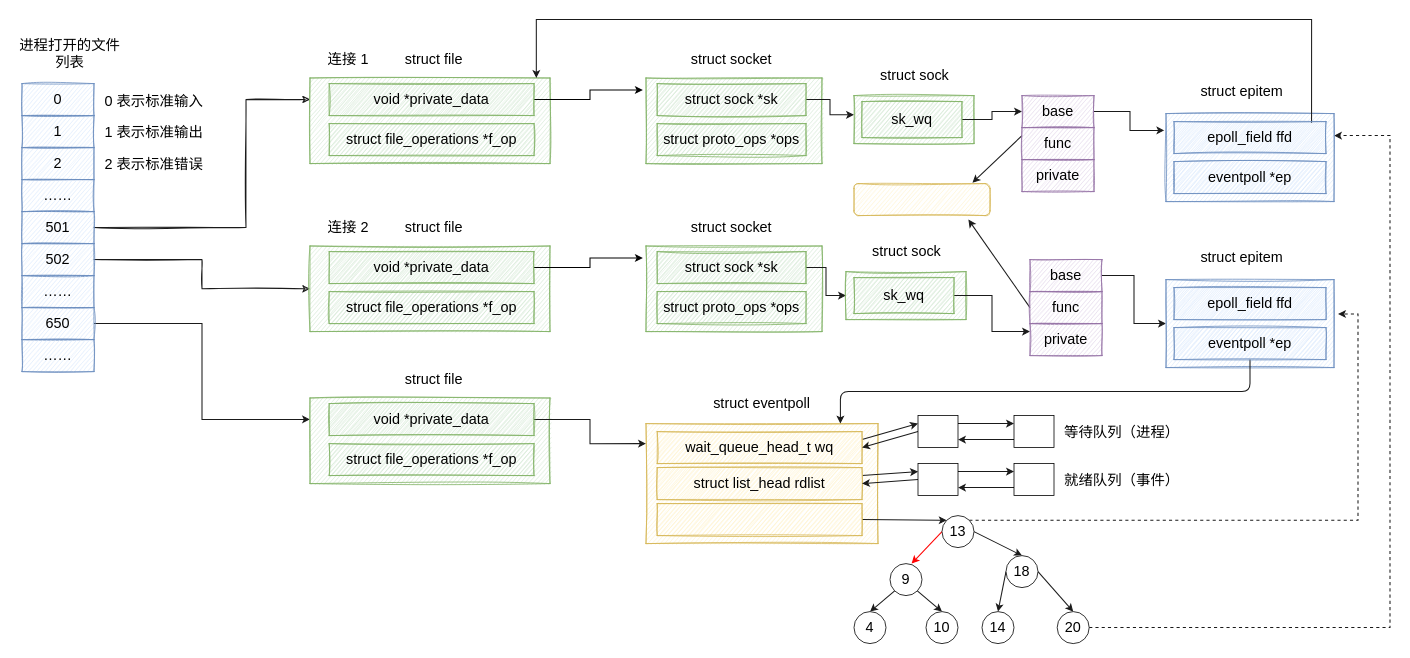
Image size: 1410x658. Some labels were removed from this diagram. The shapes that lost their labels are listed below. From the top down, each one's centre as x and y in pixels, then its label:
At (921,199): "ep_poll_callback".
At (759,519): "struct rb_root rbr".
